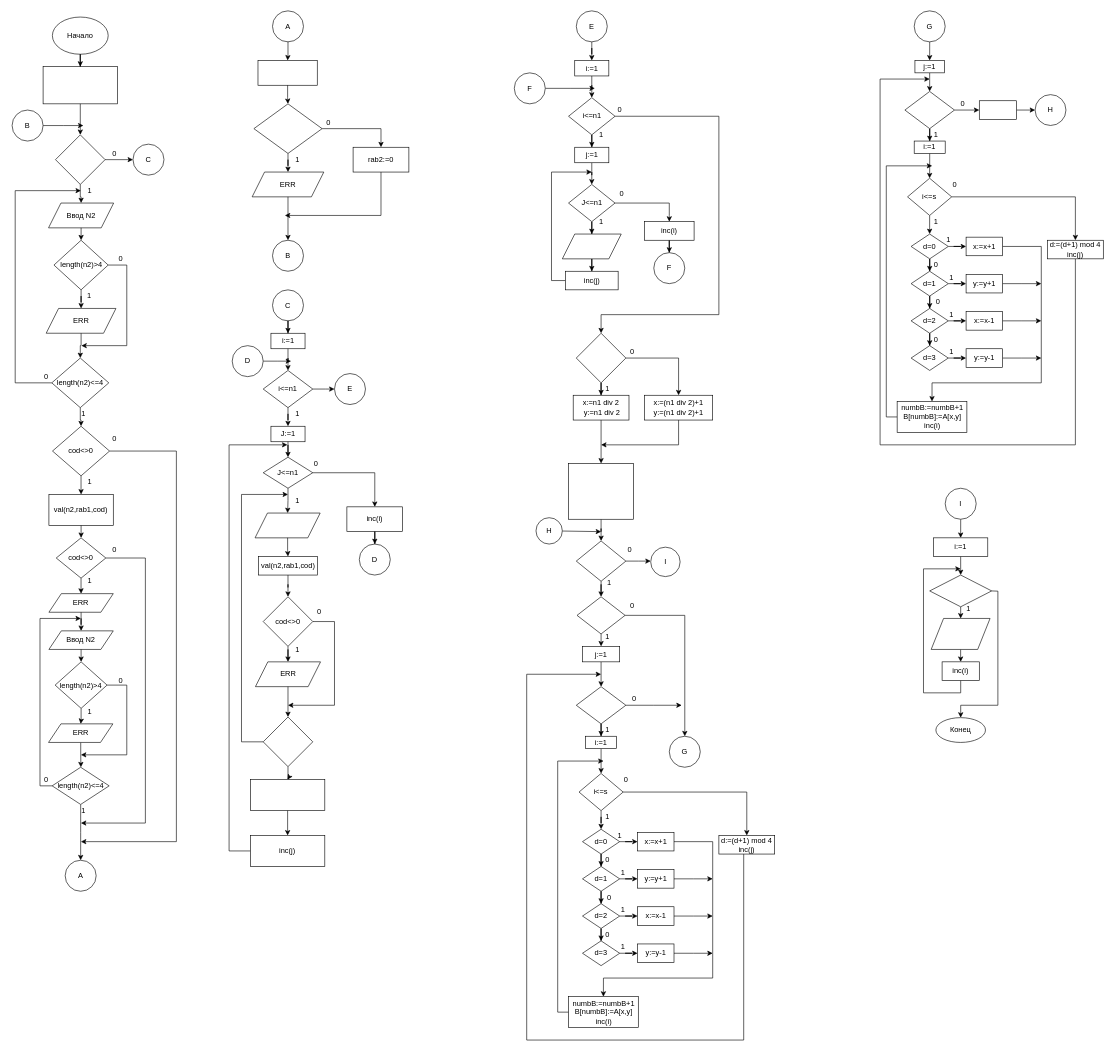
The diagram is 1114 pixels wide and 1056 high, and some of its shapes have lost their labels. Each missing label, with the box of its shape:
(n1<=0) or (n1>1000): (253, 103, 322, 153)
A[i,j]: 8,' ': (562, 233, 621, 259)
A[i,j]:=strtoint(n2): (250, 779, 325, 811)
cod=0: (263, 716, 313, 767)
d:=0 s:=1 numbB:=0 numbB:=numbB+1 B[numbB]:=A[x,y] k:=1: (568, 463, 634, 519)
i<=n1*n1: (929, 574, 992, 607)
j<=2: (576, 686, 626, 724)
j<=3: (904, 91, 954, 129)
k<(n1-1): (576, 596, 625, 634)
k<=n1-1: (576, 540, 626, 581)
n1 mod 2=0: (576, 333, 626, 383)
n1:=strtoint(n2): (257, 60, 317, 85)
rab2:=1 cod:=1: (42, 66, 117, 104)
rab2<>0: (55, 134, 105, 184)
s:=s+1: (979, 100, 1016, 119)
Ввод А[i,j]: (254, 512, 320, 538)
Вывод B[i]: (931, 618, 990, 649)
